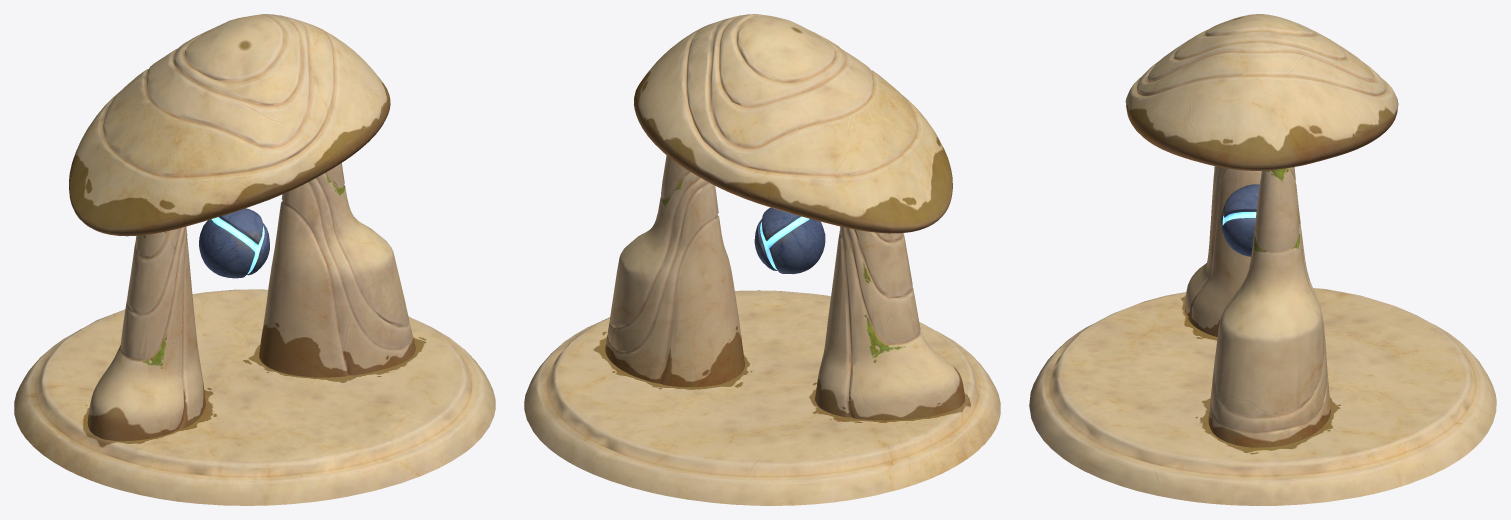
File: sky_shrine_a.glb
3 renders of one model, left to right at view 1: azimuth 30°, elevation 25°; view 2: azimuth 150°, elevation 25°; view 3: azimuth 270°, elevation 25°, orthographic.
Visible parts, largest first — view 1: shrine_a; view 2: shrine_a; view 3: shrine_a.
Boxes of the visible parts, box(x1,y1,x2,y2) form: shrine_a: box(14, 14, 495, 505); shrine_a: box(524, 14, 1000, 505); shrine_a: box(1029, 14, 1496, 505).
Bounding box in the file's own units: 2.38 × 2.09 × 2.3.
Materials: 1 (1 with a texture image).
